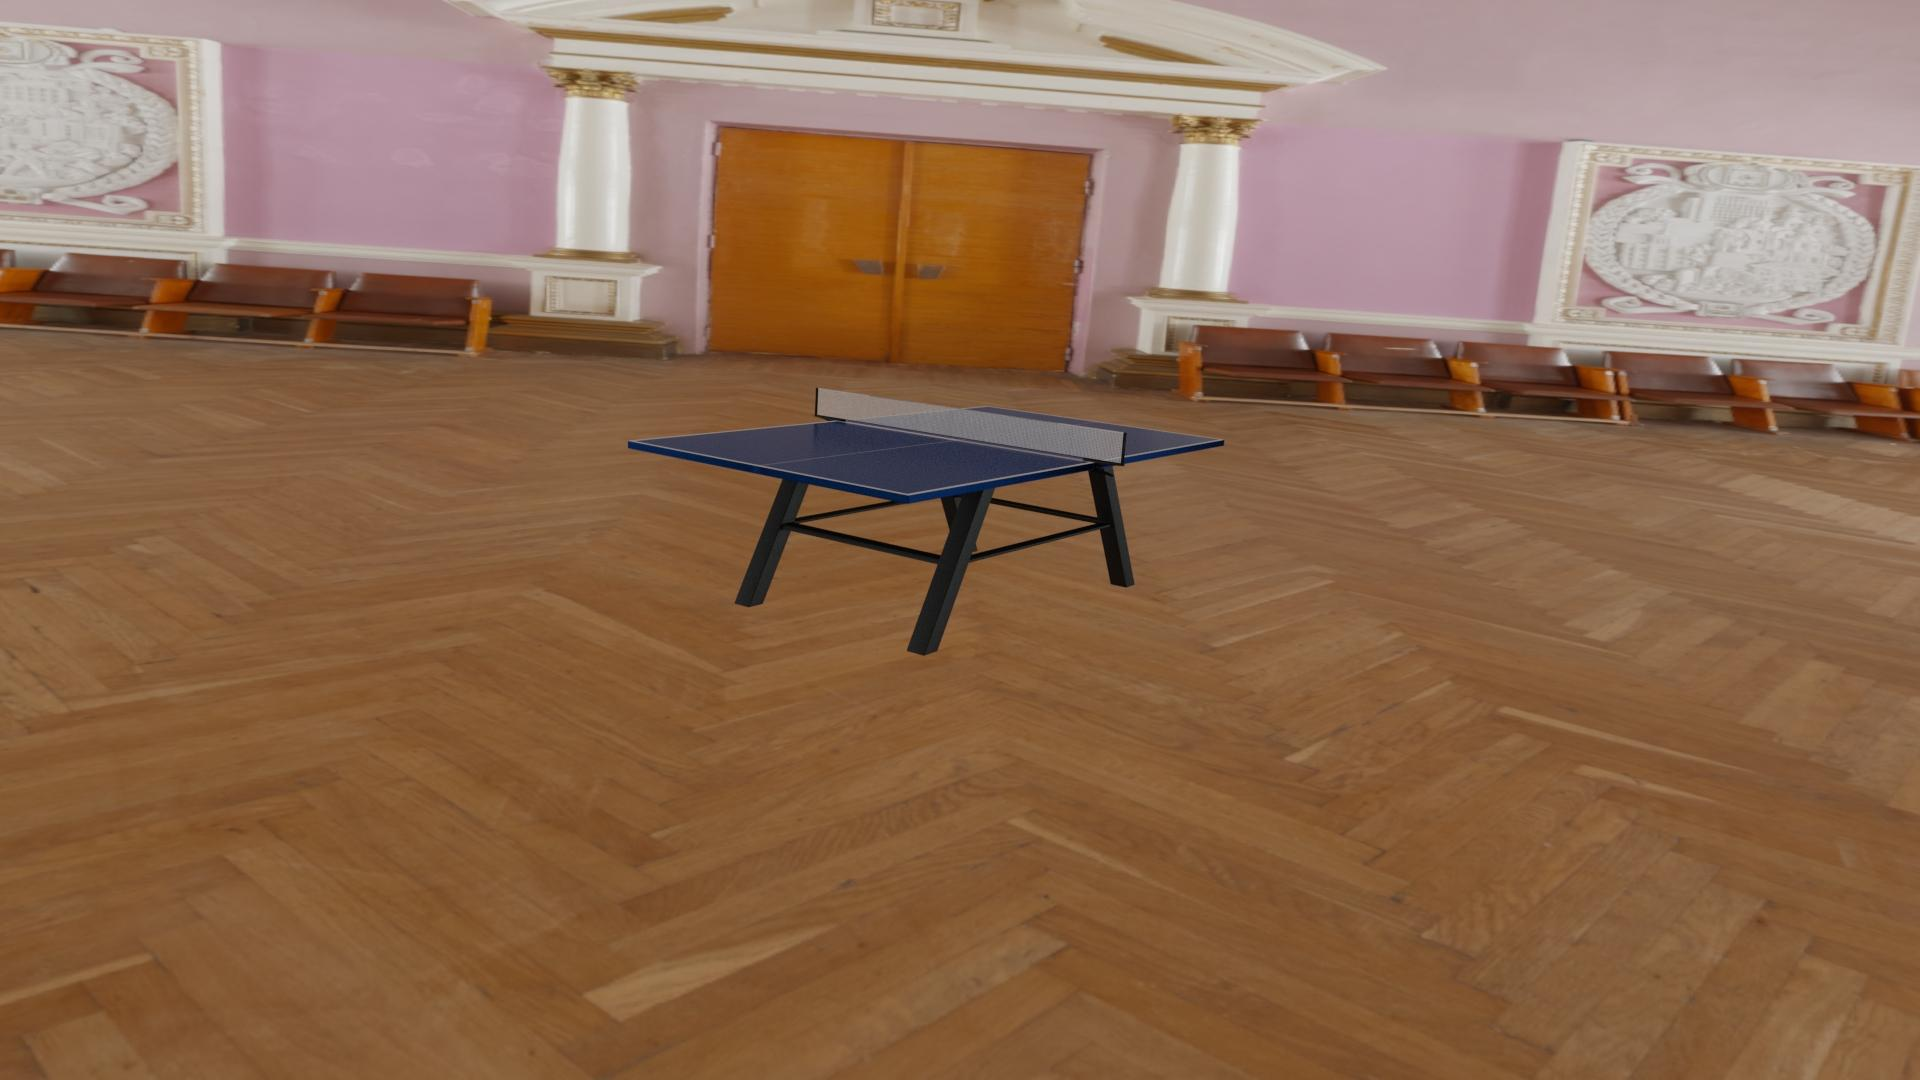table: (634, 406, 1220, 495)
